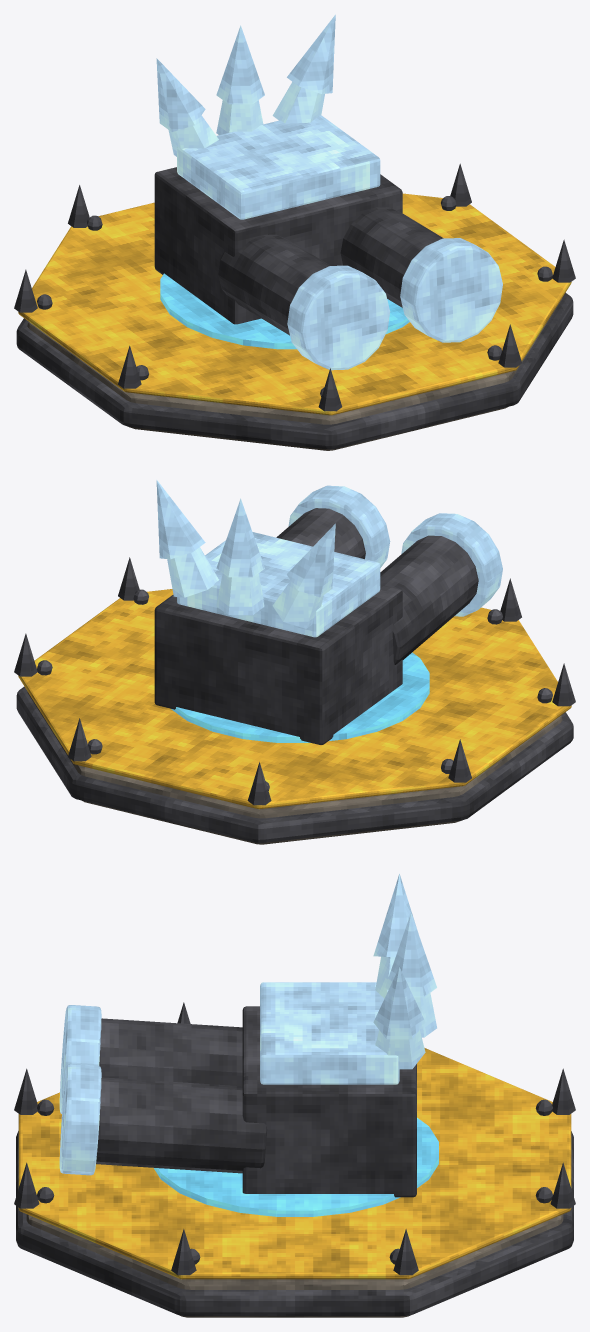
Rendered from weapon_frost.gltf.
3 views of the same model, one above another, from view 1: azimuth 30°, elevation 25°; view 2: azimuth 150°, elevation 25°; view 3: azimuth 270°, elevation 25° (orthographic). The views are drawn at different scales.
Parts seen in each view (by area): view 1: Tier4_gold, Crown_iron, Crown_ice, Crown_stone, Tier4_rune, Tier3_iron, Tier2_iron; view 2: Tier4_gold, Crown_iron, Crown_ice, Crown_stone, Tier4_rune, Tier3_iron, Tier2_iron; view 3: Crown_iron, Tier4_gold, Crown_ice, Tier4_rune, Crown_stone, Tier3_iron, Tier2_iron.
Part boxes in pixels (<box>): Tier4_gold: <box>18,193,571,415</box>; Crown_iron: <box>16,167,573,449</box>; Crown_ice: <box>156,14,502,370</box>; Crown_stone: <box>27,297,562,450</box>; Tier4_rune: <box>160,273,409,349</box>; Tier3_iron: <box>14,163,575,411</box>; Tier2_iron: <box>37,196,552,397</box>; Tier4_gold: <box>18,589,571,809</box>; Crown_iron: <box>16,508,573,843</box>; Crown_ice: <box>156,480,502,637</box>; Crown_stone: <box>27,691,562,844</box>; Tier4_rune: <box>171,652,429,742</box>; Tier3_iron: <box>14,557,575,805</box>; Tier2_iron: <box>37,589,552,790</box>; Crown_iron: <box>16,1006,573,1315</box>; Tier4_gold: <box>18,1048,571,1279</box>; Crown_ice: <box>59,873,436,1175</box>; Tier4_rune: <box>154,1117,438,1216</box>; Crown_stone: <box>26,1214,563,1317</box>; Tier3_iron: <box>14,1002,575,1275</box>; Tier2_iron: <box>37,1099,552,1264</box>.
Bounding box in the file's own units: 0.962 × 0.56 × 0.9679.
Materials: 5 (5 with a texture image).
